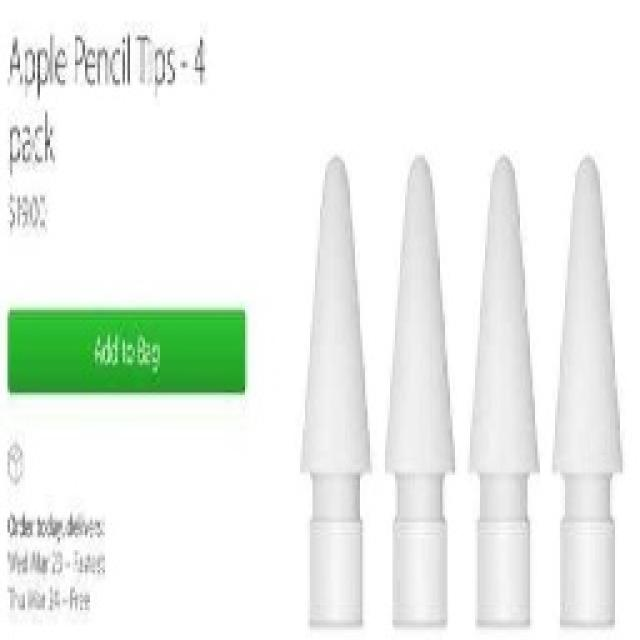pencil: (5, 303, 247, 395)
